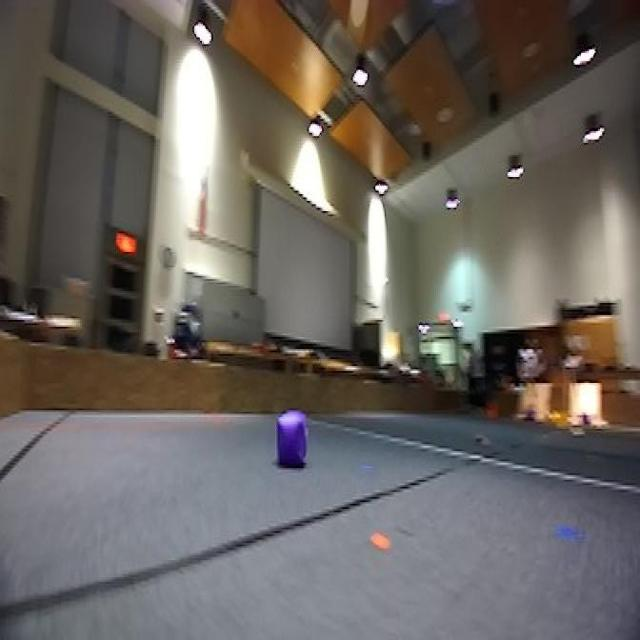frc_cube: (274, 410, 310, 472)
